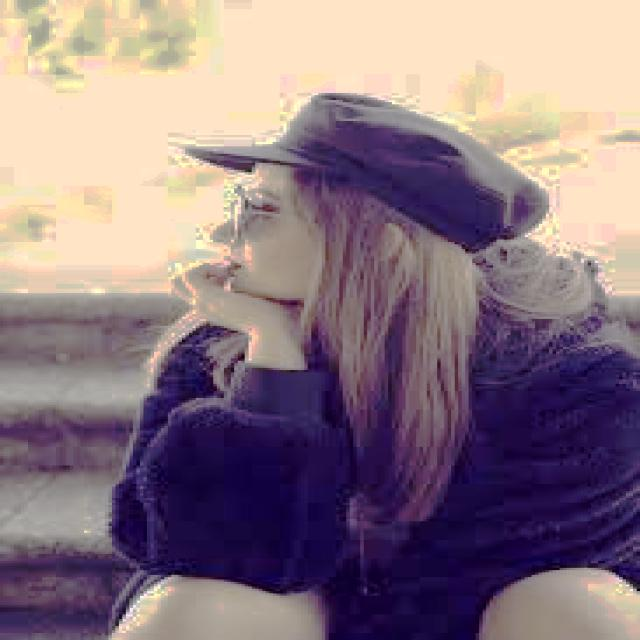TOPI: (182, 89, 545, 254)
